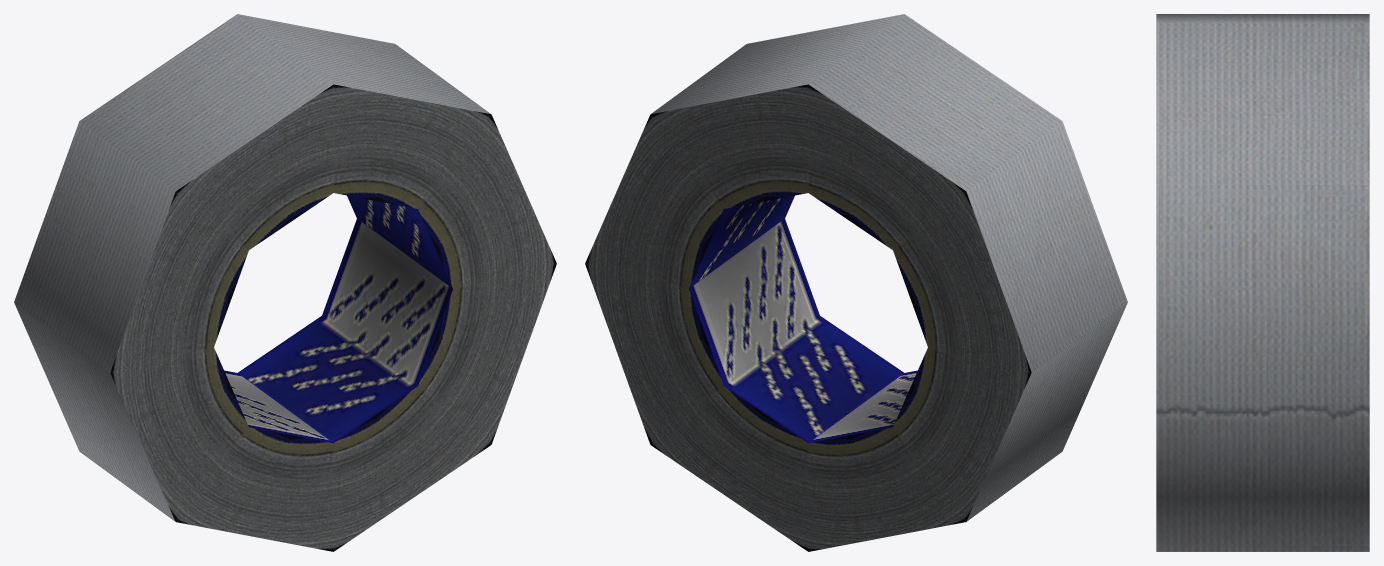
Rendered from p_rus_duct_tape_LOD1.obj.
The picture shows the model from 3 angles, left to right: view 1: azimuth 30°, elevation 25°; view 2: azimuth 150°, elevation 25°; view 3: azimuth 270°, elevation 25°; orthographic projection. The views are drawn at different scales.
Visible parts, largest first — view 1: mtl_p_rus_duct_tape; view 2: mtl_p_rus_duct_tape; view 3: mtl_p_rus_duct_tape.
Boxes of the visible parts, <box> form: mtl_p_rus_duct_tape: <box>14,14,556,551</box>; mtl_p_rus_duct_tape: <box>585,14,1127,551</box>; mtl_p_rus_duct_tape: <box>1156,14,1369,551</box>.
Size of the model in its own units: 14.16 by 14.16 by 5.28.
